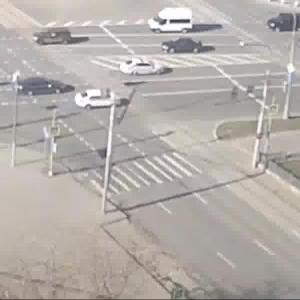car: (150, 9, 195, 35), (75, 90, 125, 111), (11, 75, 64, 94), (32, 27, 75, 50), (120, 60, 168, 80), (161, 41, 210, 58), (264, 12, 300, 35)
